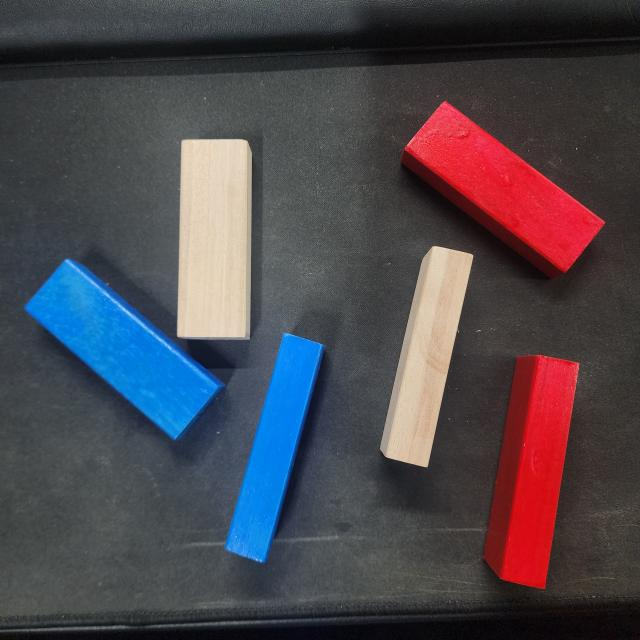blue: (21, 253, 228, 445), (222, 333, 325, 565)
red: (397, 99, 606, 284), (479, 351, 581, 592)
wood: (378, 244, 474, 468), (177, 140, 255, 343)
